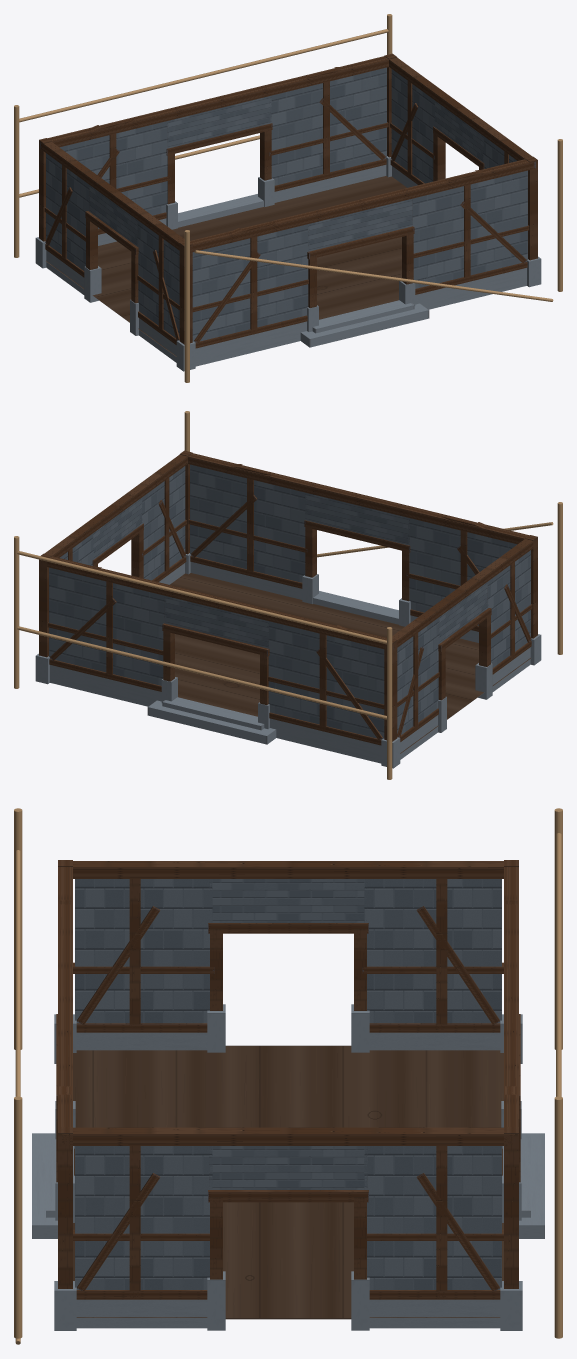
The model's file is Building5Stage3.glb.
The picture shows the model from 3 angles, top to bottom: view 1: azimuth 30°, elevation 25°; view 2: azimuth 150°, elevation 25°; view 3: azimuth 270°, elevation 25°; orthographic projection. The views are drawn at different scales.
Parts seen in each view (by area): view 1: building5_stage3; view 2: building5_stage3; view 3: building5_stage3.
Boxes of the visible parts, x1,y1,x2,y2 form: building5_stage3: [14, 14, 562, 382]; building5_stage3: [14, 411, 562, 779]; building5_stage3: [14, 808, 562, 1344].
Size of the model in its own units: 14.12 by 5.71 by 11.23.
Materials: 2 (1 with a texture image).
